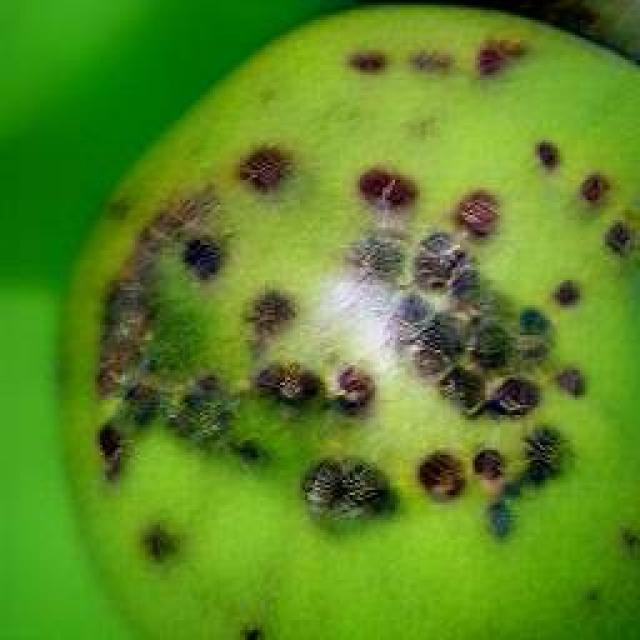defective: (50, 0, 638, 638)
